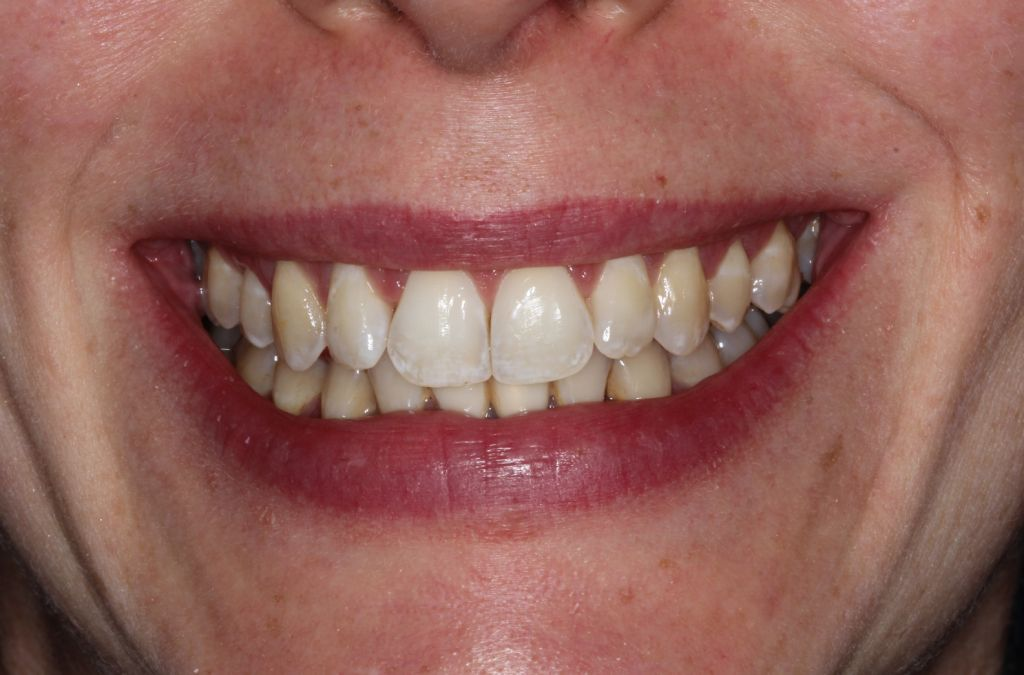LR1BC_mdecay: (272, 368, 319, 414)
UL1BC_mdecay: (708, 242, 750, 329)
UL2BC_mdecay: (751, 227, 793, 312)
ULCI_mdecay: (492, 268, 591, 382)
ULC_mdecay: (656, 252, 708, 353)
ULLI_mdecay: (594, 260, 653, 359)
UR1BC_mdecay: (239, 271, 274, 353)
UR2BC_healthy: (207, 249, 239, 331)
URCI_mdecay: (390, 269, 489, 383)
URC_mdecay: (273, 266, 324, 370)
URLI_mdecay: (325, 267, 387, 368)
